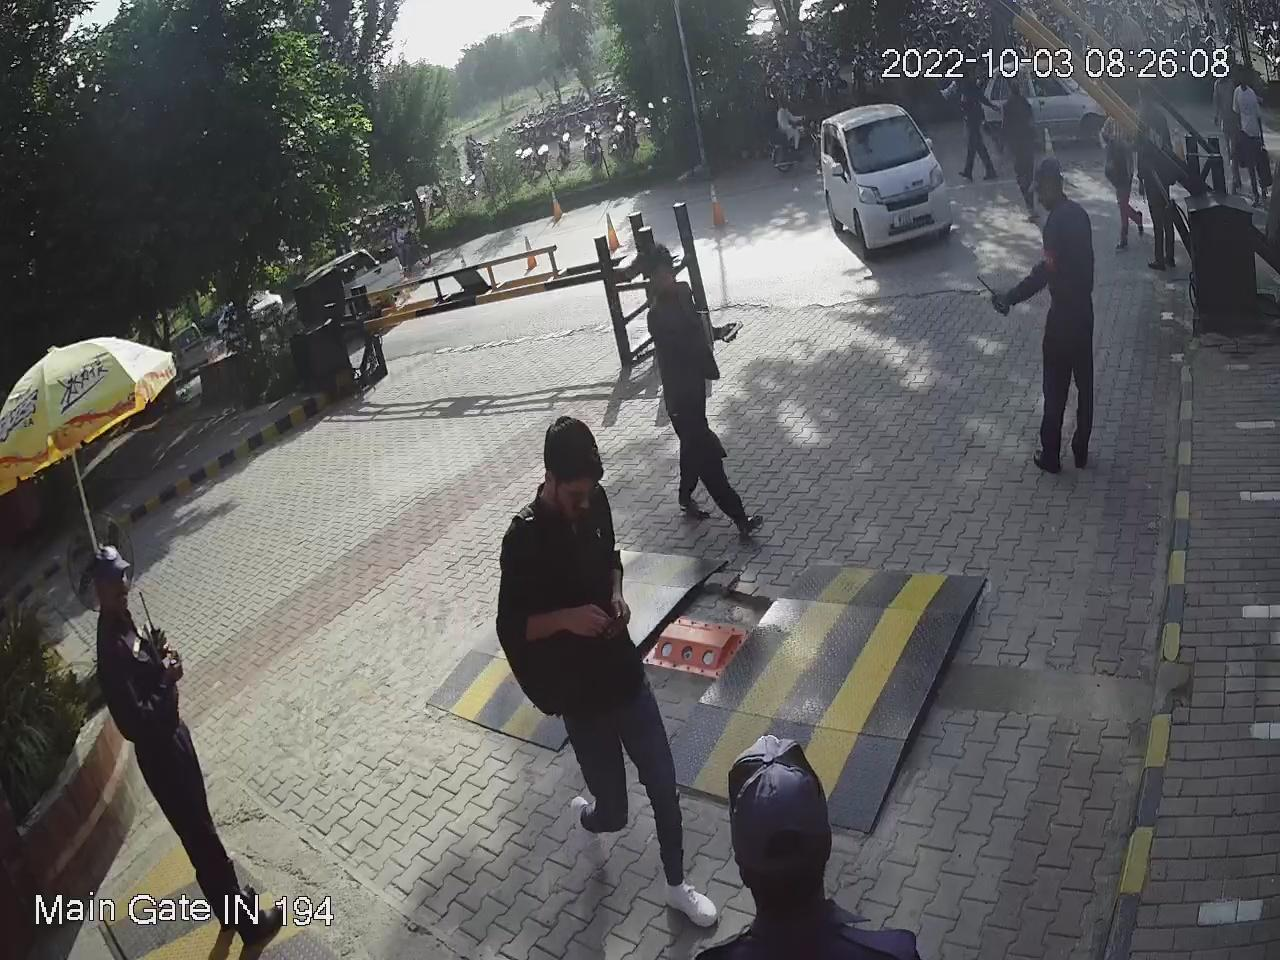windshield: (834, 105, 935, 175)
